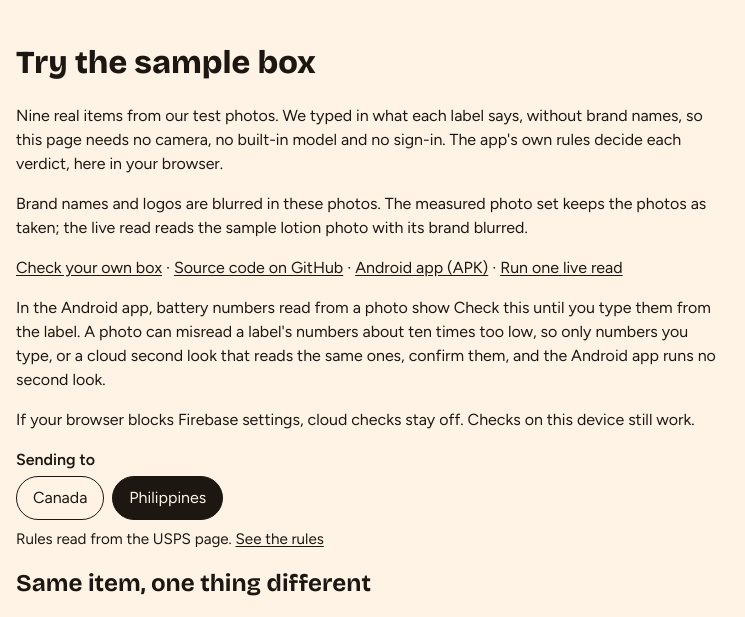
Test: JudgePage › asks what the label cannot show, and the verdict follows the answer
What coordinates should you click on to do the following:
click the radio button labelled "Canada"
I would click on:
 (60, 498)
Its box is [16,476,104,520].
(page scrolled)
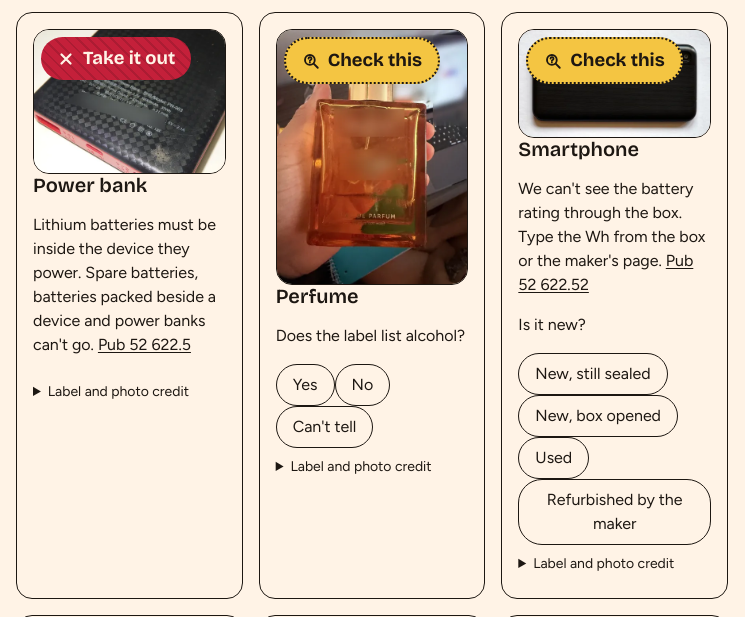
Result: the 1st element with test id "verdict-chip" reads "Check this" at [328,49,422,71]
What coordinates should you click on to do the following:
click the button "Yes"
I would click on:
 (305, 385)
Its box is [276,364,335,406].
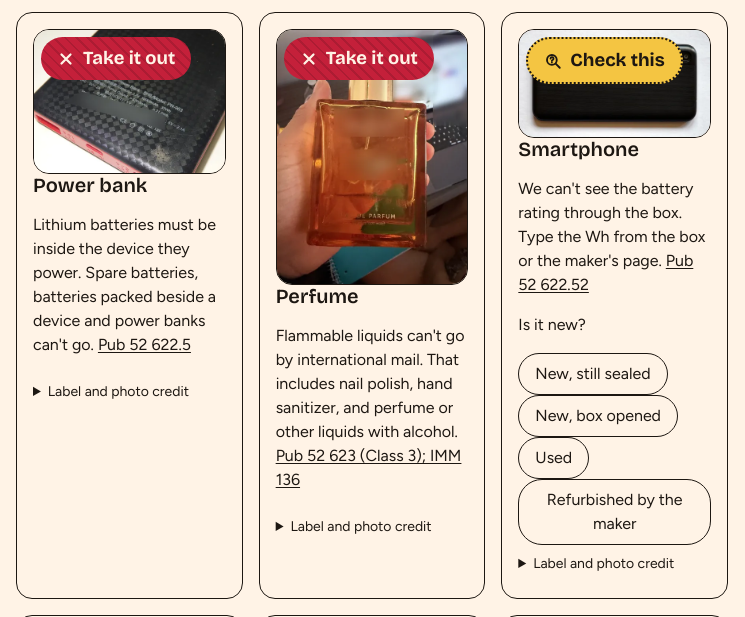
Result: the 2nd element with test id "verdict-chip" reads "Take it out" at [326,47,418,69]
